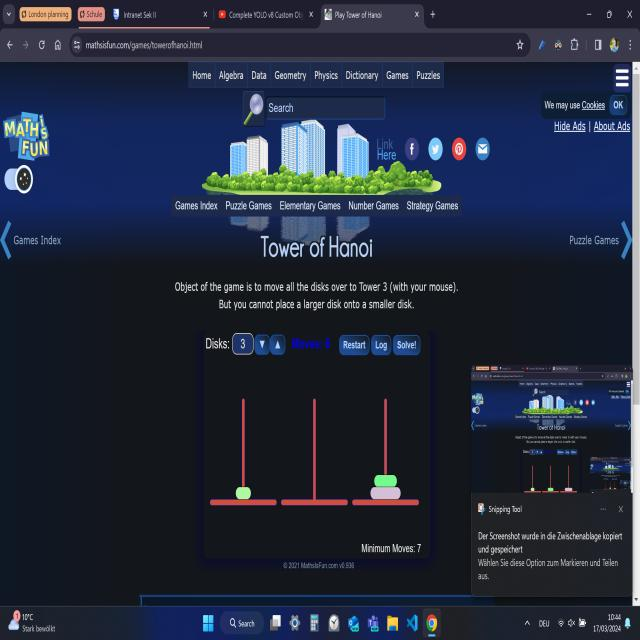disk1: (236, 487, 251, 499)
disk2: (374, 475, 397, 487)
disk3: (370, 487, 400, 499)
